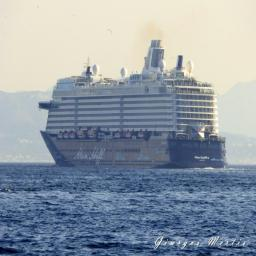cruises: (37, 40, 232, 172)
